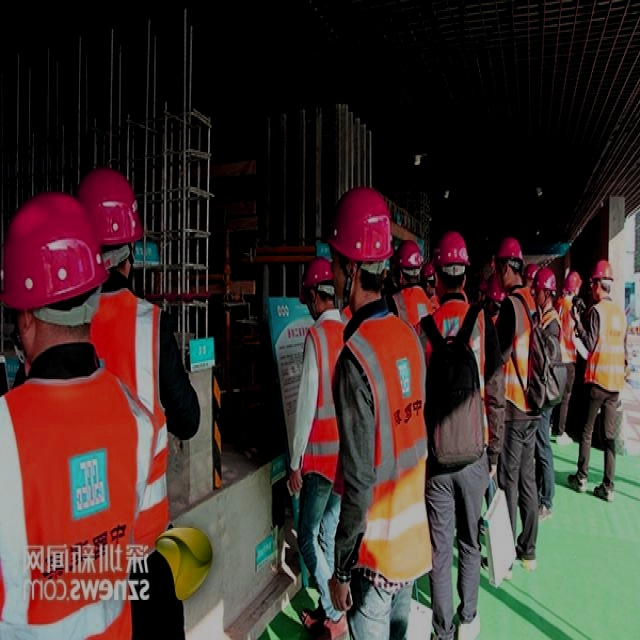Con_Casco: (327, 186, 393, 298)
Con_Chaleco: (346, 311, 428, 574), (290, 312, 348, 478), (585, 300, 630, 385)
